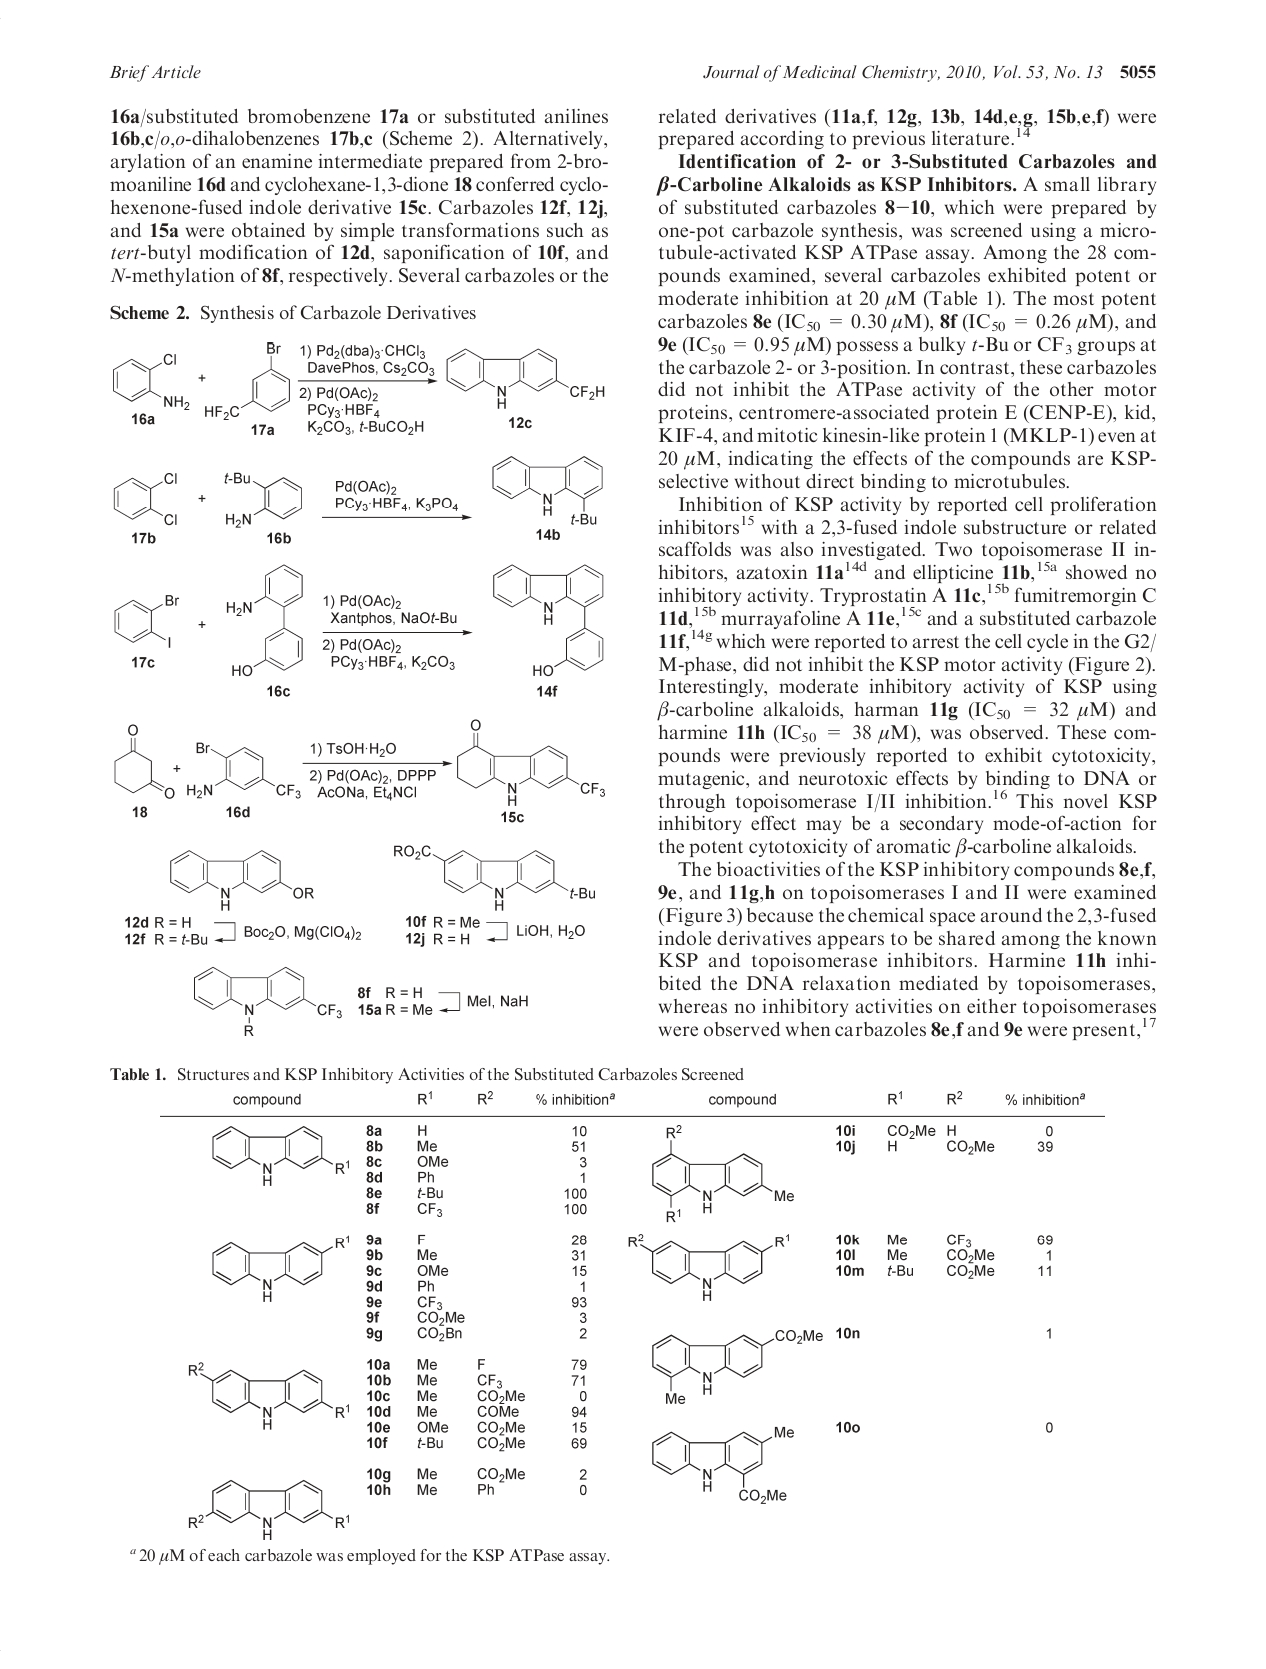exist_molecular: (388, 842, 597, 914), (649, 1125, 797, 1225), (650, 1325, 824, 1406), (453, 715, 605, 806), (492, 563, 605, 680), (186, 1358, 352, 1430), (626, 1231, 793, 1302), (650, 1426, 797, 1505), (191, 964, 343, 1039), (188, 1477, 352, 1544), (444, 347, 608, 410), (210, 1231, 352, 1302), (168, 847, 316, 914), (225, 564, 305, 680), (209, 1126, 352, 1189), (489, 453, 606, 527), (203, 340, 293, 422), (185, 741, 303, 801), (219, 469, 305, 531), (112, 352, 190, 414), (114, 722, 176, 801), (113, 469, 180, 525), (113, 594, 181, 648)
